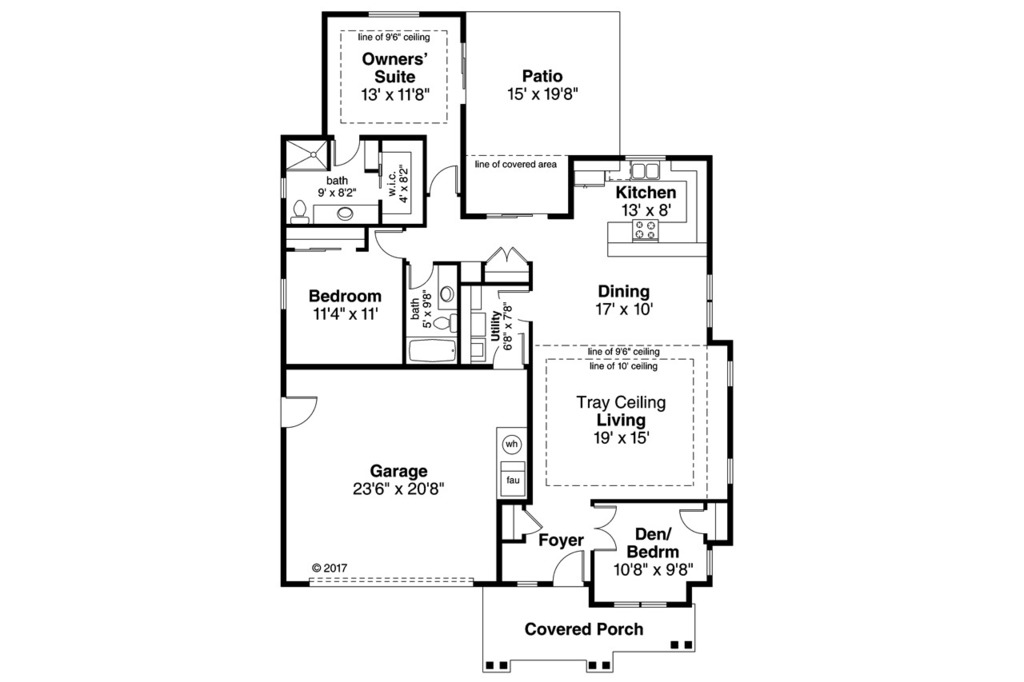door: (585, 503, 627, 554), (544, 544, 592, 588), (273, 389, 321, 428), (676, 498, 720, 540), (481, 241, 533, 274), (325, 129, 365, 168), (425, 157, 457, 202), (494, 332, 531, 367), (373, 223, 405, 259), (405, 260, 437, 294), (519, 503, 547, 539)
large_sink: (287, 190, 315, 226), (428, 307, 461, 335)
small_sink: (315, 200, 379, 229), (438, 263, 457, 306)
tub: (399, 333, 463, 361)
twin_sink: (626, 151, 668, 181)
window: (612, 148, 672, 165), (699, 269, 716, 329), (721, 452, 746, 489), (610, 597, 671, 611), (361, 8, 424, 20), (699, 546, 720, 580), (274, 275, 287, 319), (726, 360, 733, 388)
